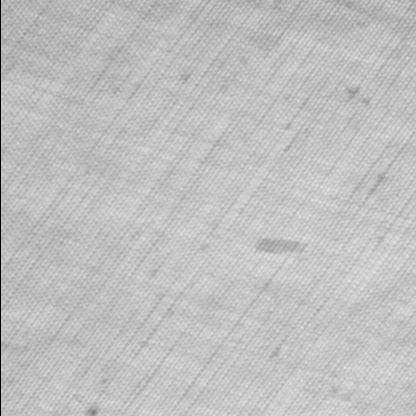oil spot: (252, 239, 308, 255)
